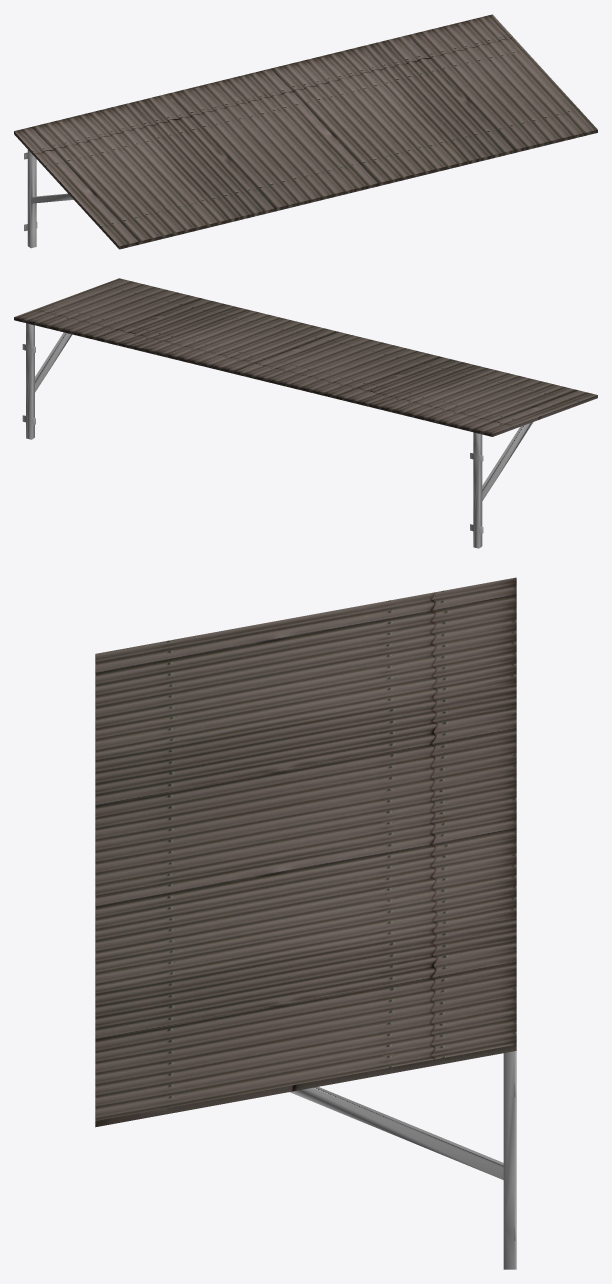
Rendered from roof.fbx.
3 views of the same model, one above another, from view 1: azimuth 30°, elevation 25°; view 2: azimuth 150°, elevation 25°; view 3: azimuth 270°, elevation 25° (orthographic). The views are drawn at different scales.
Parts seen in each view (by area): view 1: roof, holder_001; view 2: roof, holder_001, holder; view 3: roof, holder.
Boxes of the visible parts, x1,y1,x2,y2 form: roof: (14,14,597,249); holder_001: (24,149,73,248); roof: (14,278,597,436); holder_001: (470,422,533,548); holder: (22,323,72,439); roof: (95,577,516,1127); holder: (289,1051,516,1269).
Size of the model in its own units: 2.73 by 0.6461 by 1.04.
